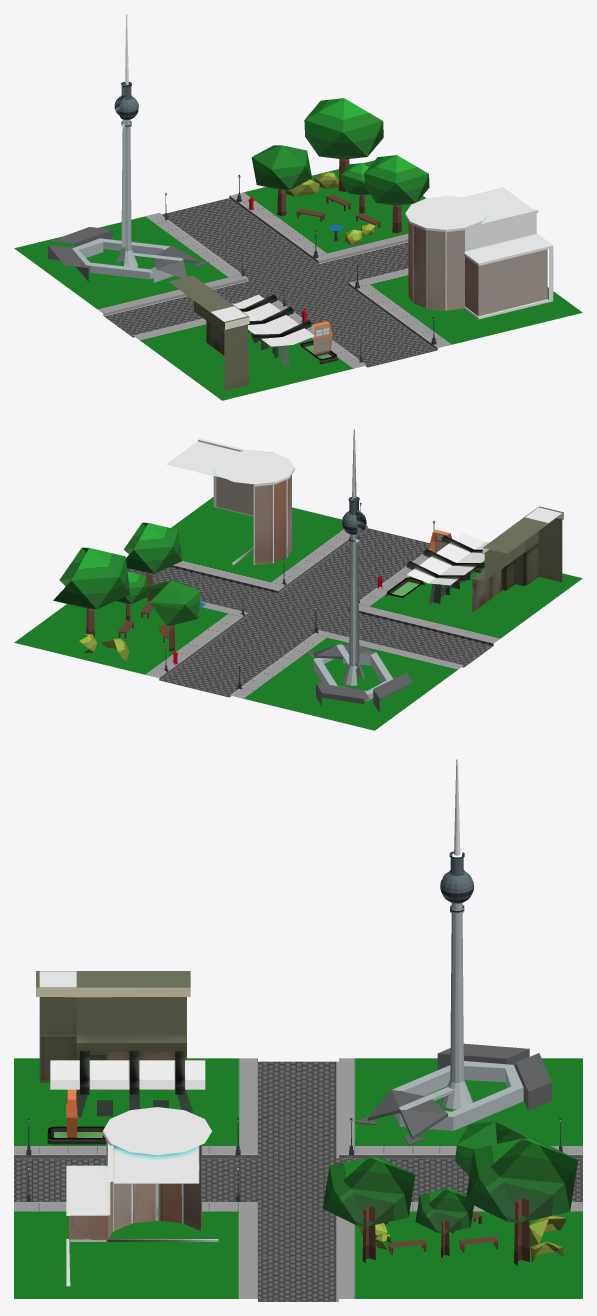
The model's file is alexanderplatz.glb.
3 views of the same model, one above another, from view 1: azimuth 30°, elevation 25°; view 2: azimuth 150°, elevation 25°; view 3: azimuth 270°, elevation 25° (orthographic). The views are drawn at different scales.
Parts seen in each view (by area): view 1: Road, Building, Gas, Tower, Tree.001, Tree.004, Tree, Tree.003; view 2: Road, Gas, Building, Tower, Tree.001, Tree.004, Tree, Tree.003; view 3: Road, Gas, Building, Tower, Tree.001, Tree.004, Tree.003, Tree.
Boxes of the visible parts, x1,y1,x2,y2 form: Road: (14, 160, 582, 400); Building: (405, 187, 553, 319); Gas: (169, 275, 337, 390); Tower: (48, 14, 208, 282); Tree.001: (304, 98, 383, 191); Tree.004: (364, 155, 429, 233); Tree: (251, 145, 311, 216); Tree.003: (341, 163, 369, 213); Road: (14, 497, 582, 730); Gas: (386, 506, 563, 612); Building: (167, 438, 294, 565); Tower: (307, 429, 412, 712); Tree.001: (53, 547, 130, 637); Tree.004: (124, 522, 181, 601); Tree: (144, 580, 200, 651); Tree.003: (116, 572, 148, 620); Road: (14, 1058, 582, 1301); Gas: (36, 971, 205, 1144); Building: (66, 1107, 218, 1286); Tower: (355, 759, 551, 1145); Tree.001: (465, 1138, 578, 1265); Tree.004: (323, 1157, 415, 1263); Tree.003: (415, 1189, 473, 1257); Tree: (455, 1121, 531, 1215).
Size of the model in its own units: 40 by 27.43 by 40.
4 materials, 4 textured.
